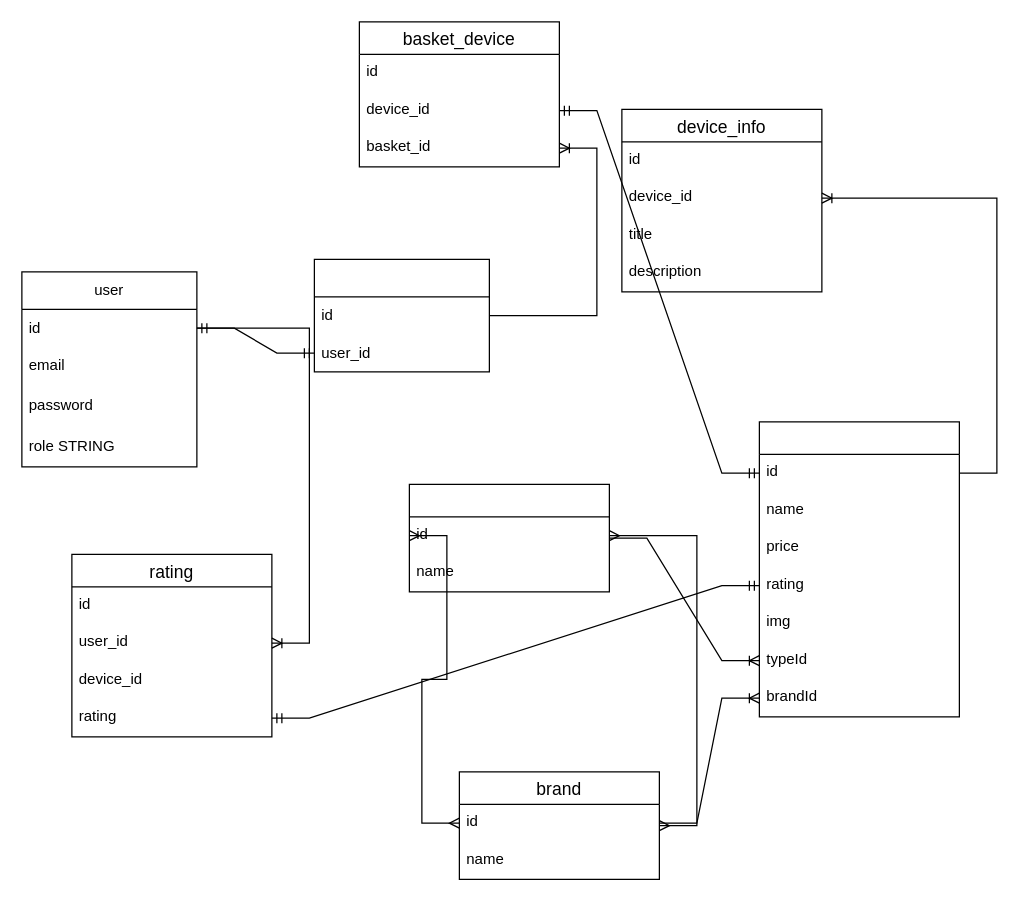
This 1029x905 diagram has some shape labels left out. The shapes that lost their labels are listed below. From the top down, each one's box as (x1, y1, x2, y2) in pixels, then its label:
(313, 258, 489, 372): basket
(408, 483, 609, 592): type
(758, 421, 959, 717): device
